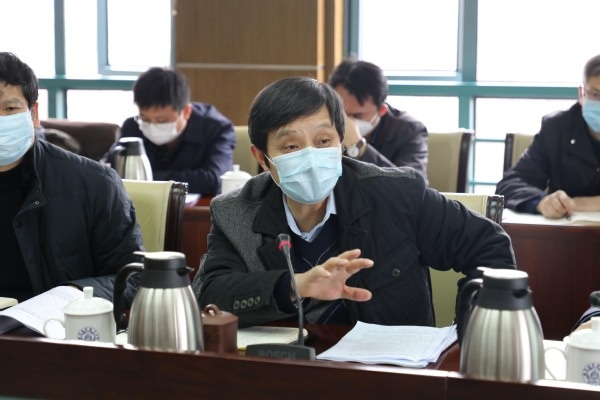correctlyWear: (249, 119, 347, 205), (133, 93, 192, 146), (1, 91, 39, 168), (331, 85, 389, 135), (575, 78, 600, 137)
